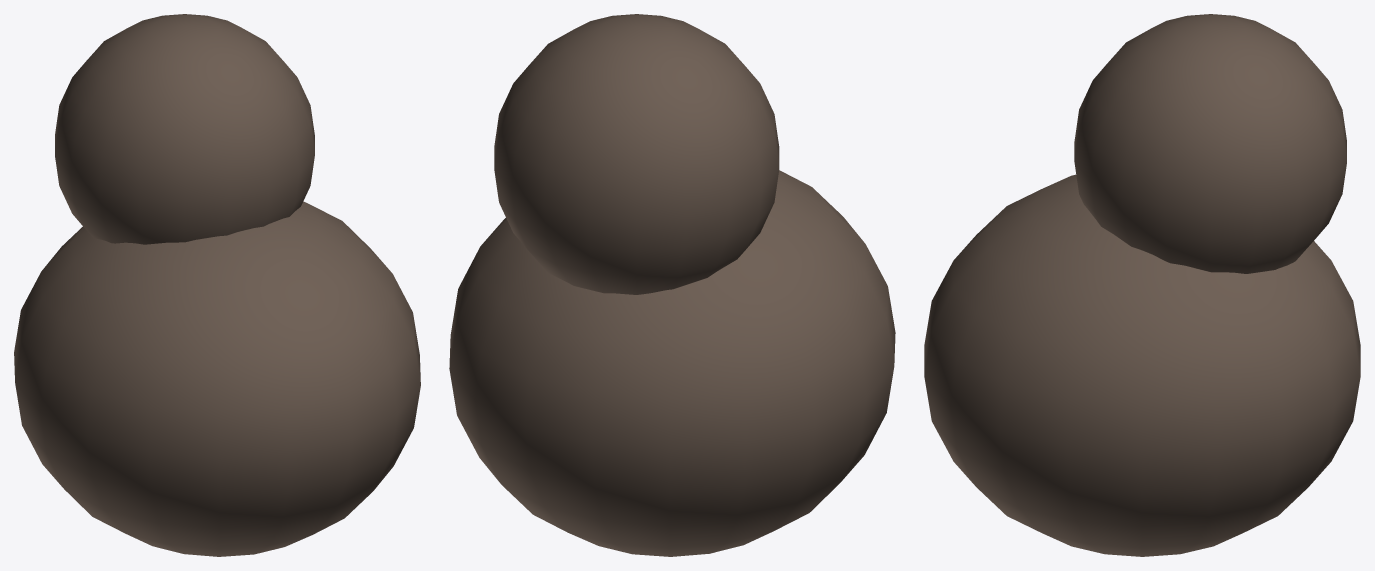
File: hair-bun.glb
The picture shows the model from 3 angles, left to right: view 1: azimuth 30°, elevation 25°; view 2: azimuth 150°, elevation 25°; view 3: azimuth 270°, elevation 25°; orthographic projection. The views are drawn at different scales.
Parts seen in each view (by area): view 1: Hair; view 2: Hair; view 3: Hair.
Part boxes in pixels (bbox=[...]): Hair: bbox=[14, 14, 420, 556]; Hair: bbox=[449, 14, 895, 556]; Hair: bbox=[924, 14, 1360, 556].
Bounding box in the file's own units: 0.232 × 0.304 × 0.2364.
